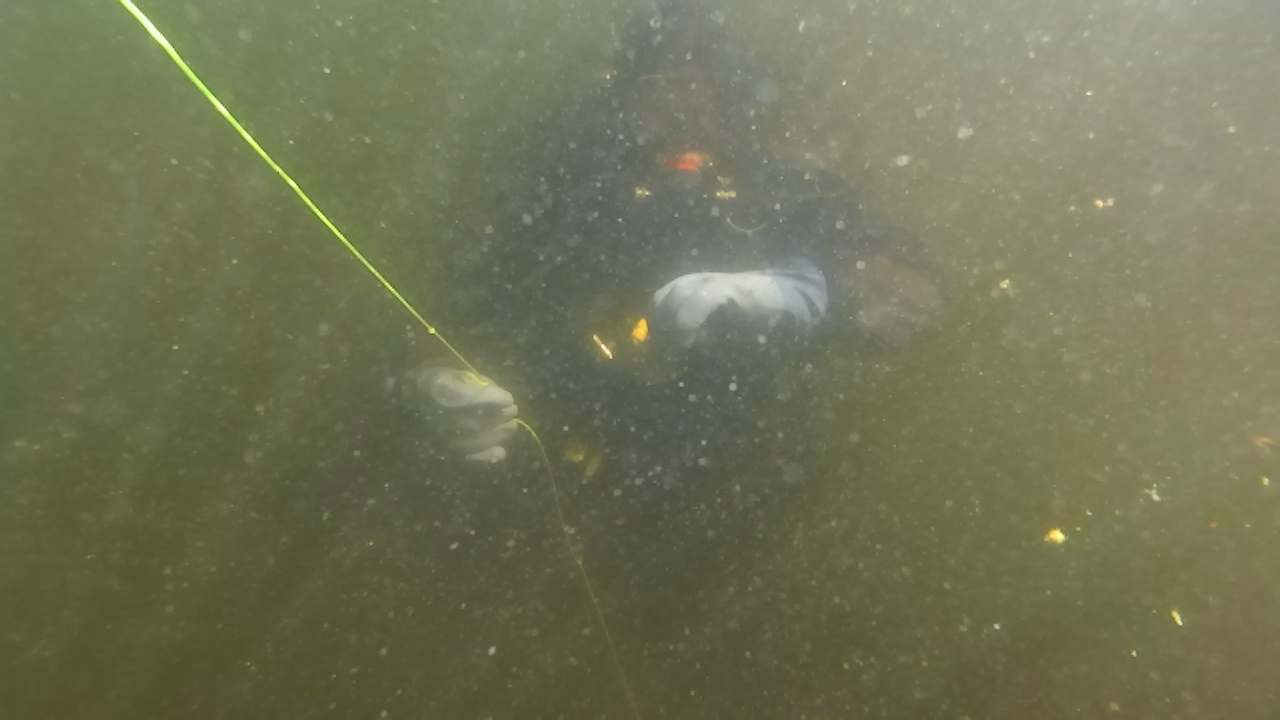Diver: (376, 16, 978, 514)
Hand: (356, 334, 552, 480), (616, 268, 874, 370)
